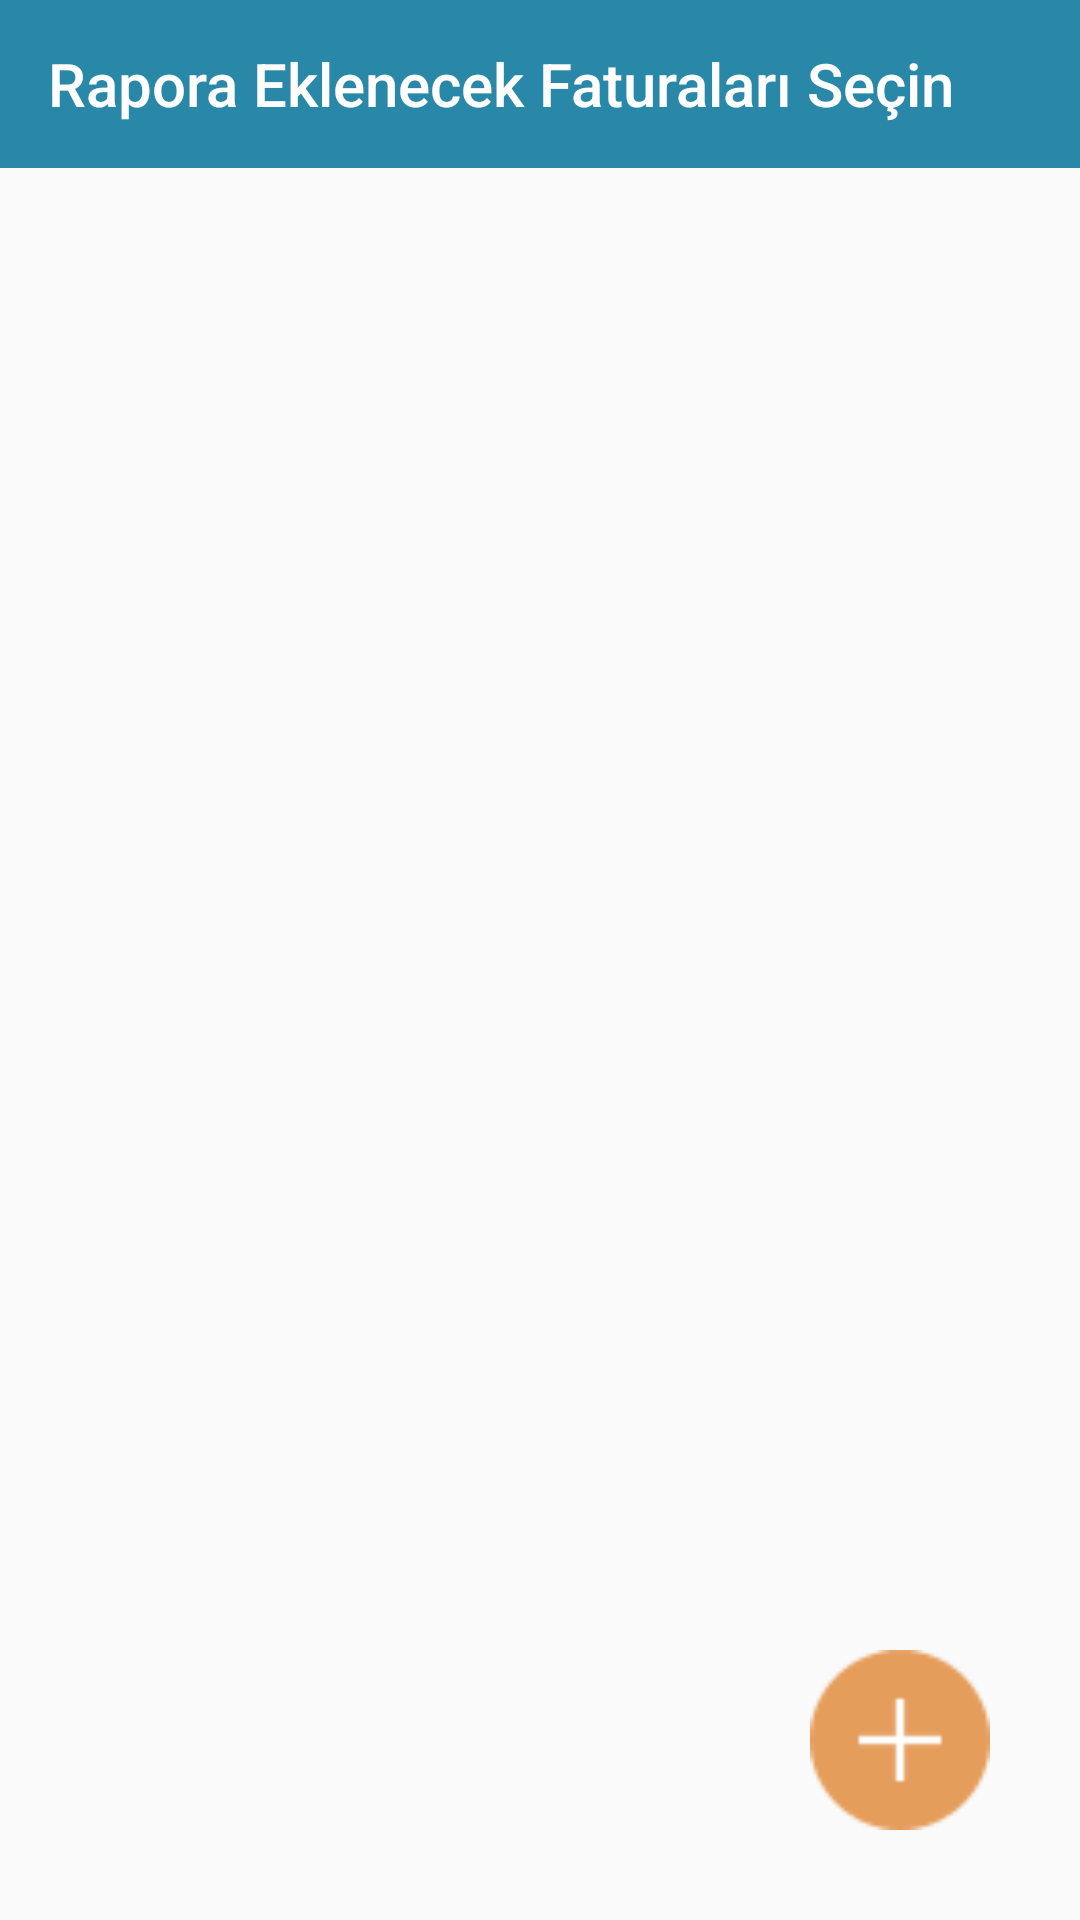

Icons on this 1080px×1920px Android screen, each with its box as [x1,y1,x2,y2]:
iconaddcircular: [810,1650,990,1830]
